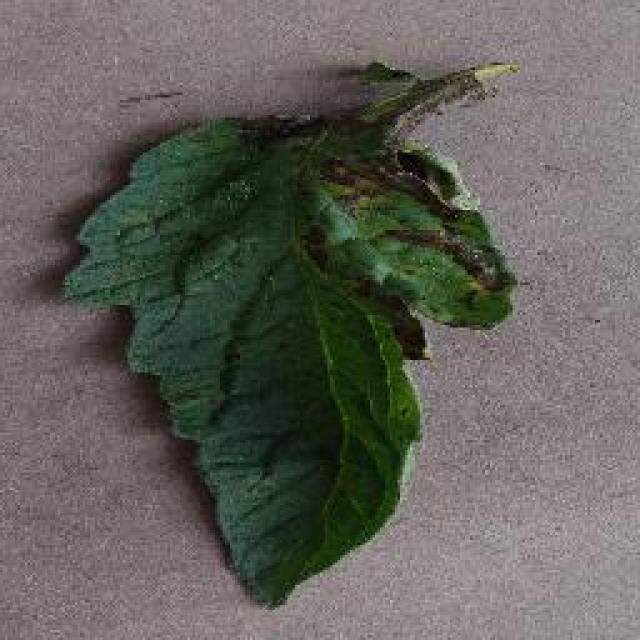Tomato___Early_blight: (51, 54, 527, 614)
